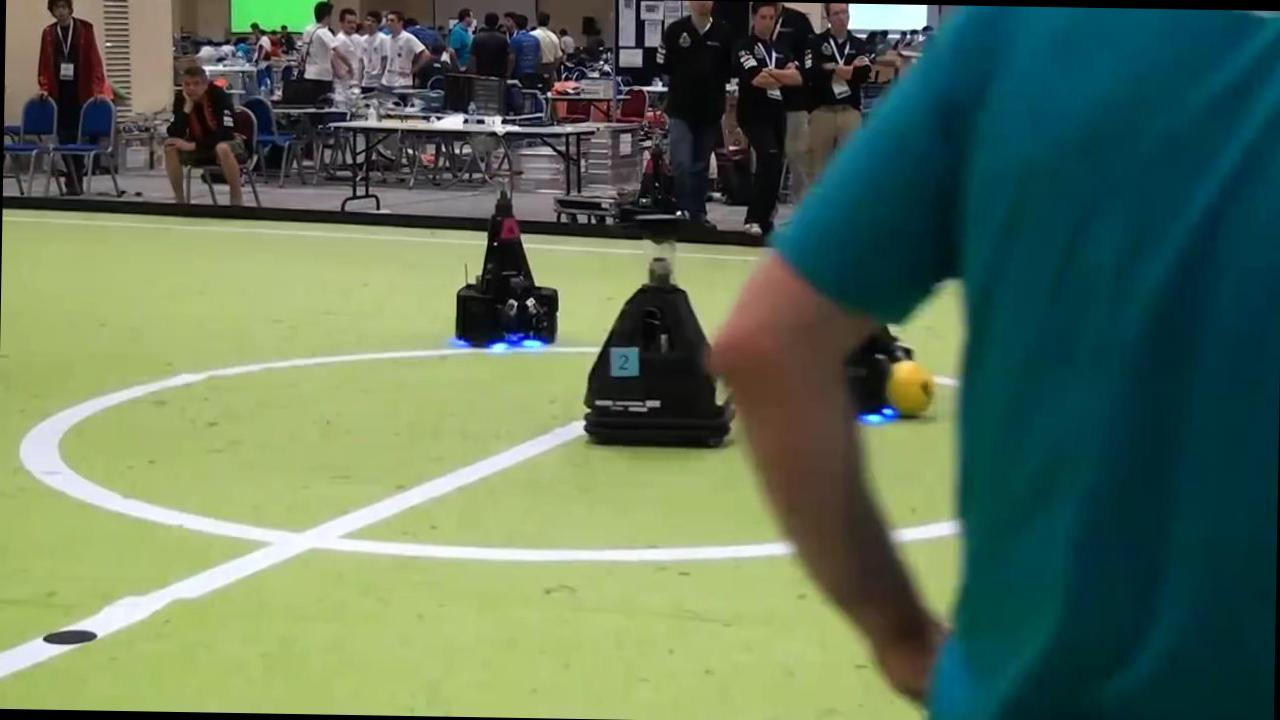ball: (887, 360, 935, 417)
robot: (584, 215, 734, 445), (455, 193, 559, 347), (845, 327, 913, 413)
